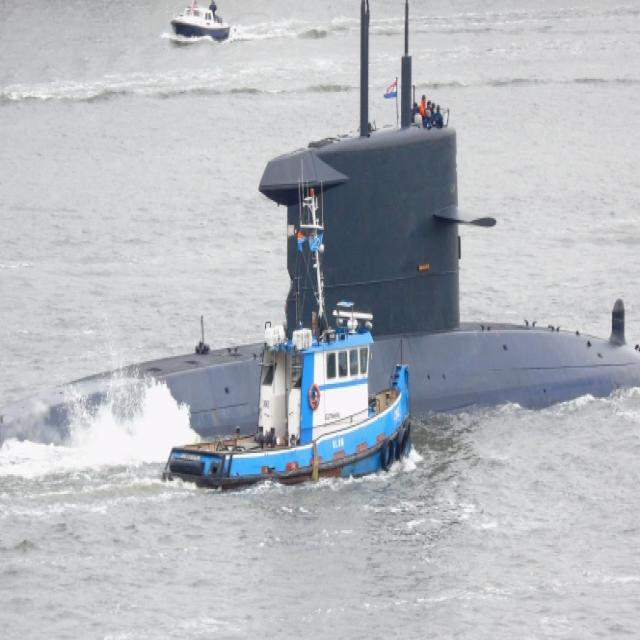submarine: (1, 1, 640, 460)
